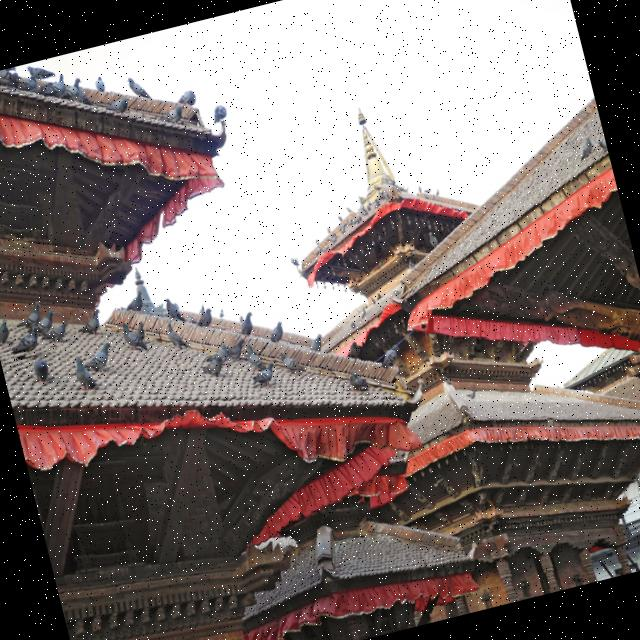bird: (196, 340, 235, 380), (81, 338, 117, 378), (119, 316, 151, 358), (70, 352, 100, 394), (73, 306, 107, 340), (6, 329, 42, 361), (28, 306, 61, 340), (42, 318, 72, 348), (18, 298, 46, 330), (126, 72, 152, 105), (164, 318, 189, 352), (30, 354, 54, 388), (162, 294, 186, 324), (236, 310, 258, 340), (265, 319, 287, 346), (306, 330, 326, 356), (0, 318, 12, 347), (216, 306, 227, 320)
